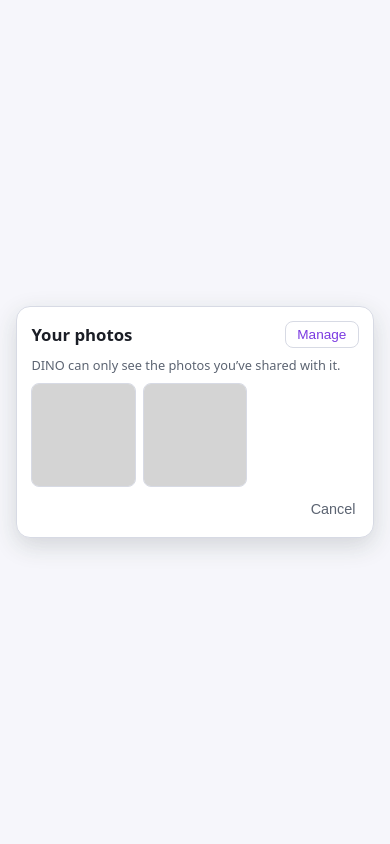
PhotoLibrarySheet › backing out of Manage returns to the photos rather than closing the picker
Click the button "Manage" at (322, 335), box [285, 321, 359, 348]
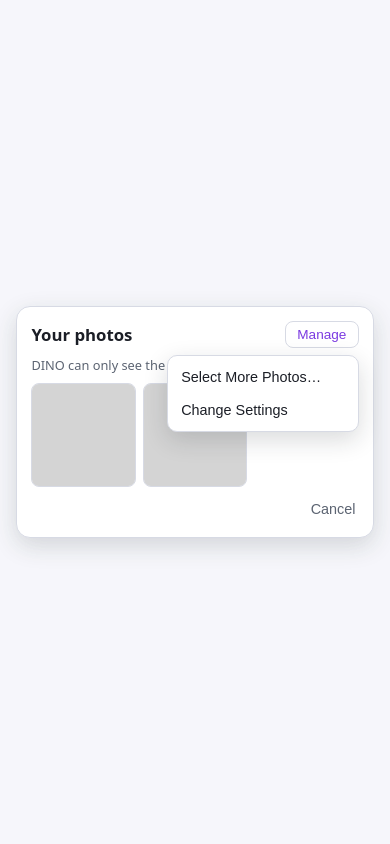
Expected: the menu is shown
Note: Tap off the menu: the scrim swallows it, so the sheet itself is untouched.
Click the element showing "Select More Photos… Change Settings" at (263, 394), box [167, 355, 359, 432]
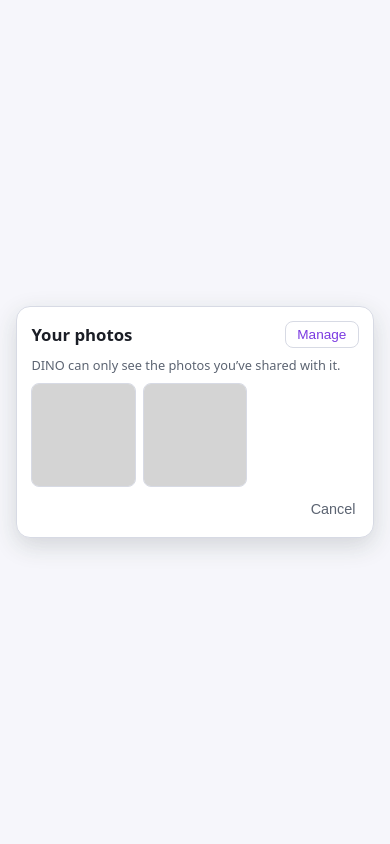
Expected: the menu is gone
